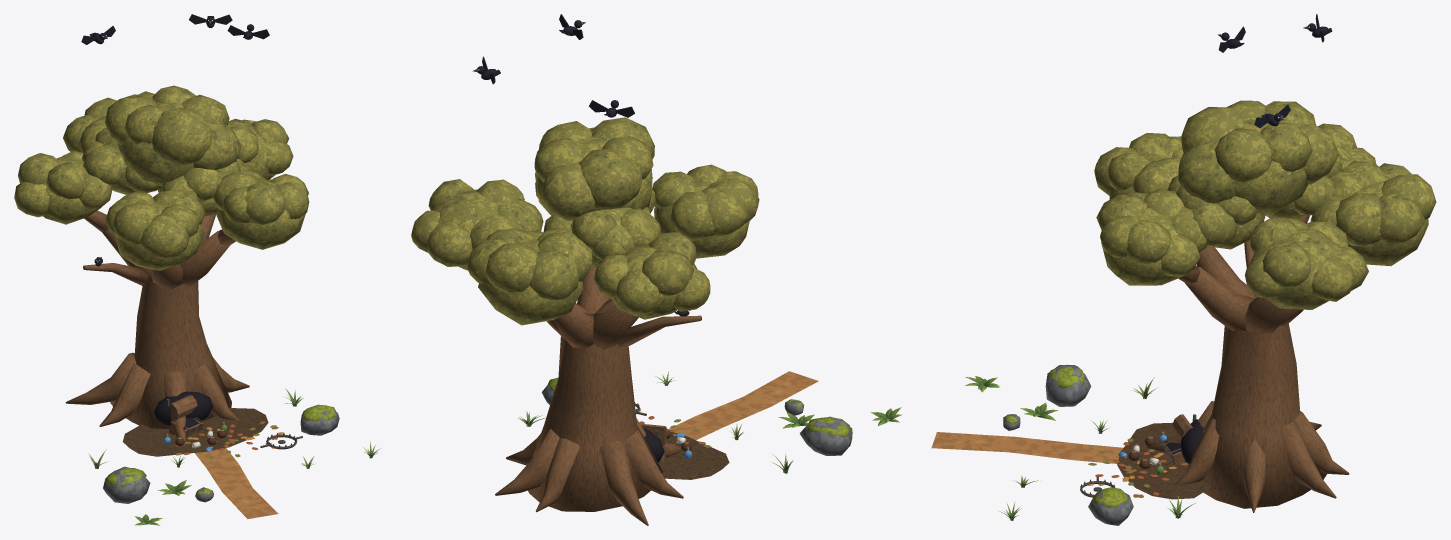
The model's file is ev09_cache.glb.
The picture shows the model from 3 angles, left to right: view 1: azimuth 30°, elevation 25°; view 2: azimuth 150°, elevation 25°; view 3: azimuth 270°, elevation 25°; orthographic projection. The views are drawn at different scales.
Visible parts, largest first — view 1: ev09_cache_tree_crown, ev09_cache_tree_trunk, ev09_cache_ground_details, ev09_cache_cache, ev09_cache_crows, ev09_cache_plants; view 2: ev09_cache_tree_crown, ev09_cache_tree_trunk, ev09_cache_ground_details, ev09_cache_crows, ev09_cache_plants, ev09_cache_cache; view 3: ev09_cache_tree_crown, ev09_cache_tree_trunk, ev09_cache_ground_details, ev09_cache_cache, ev09_cache_plants, ev09_cache_crows.
Part boxes in pixels (box(x1,y1,x2,y2)): ev09_cache_tree_crown: box(14, 85, 309, 270); ev09_cache_tree_trunk: box(65, 210, 249, 445); ev09_cache_ground_details: box(103, 404, 339, 519); ev09_cache_cache: box(164, 395, 302, 451); ev09_cache_crows: box(81, 14, 269, 266); ev09_cache_plants: box(88, 388, 380, 525); ev09_cache_tree_crown: box(411, 117, 759, 325); ev09_cache_tree_trunk: box(495, 266, 701, 525); ev09_cache_ground_details: box(541, 371, 852, 479); ev09_cache_crows: box(472, 14, 690, 316); ev09_cache_plants: box(518, 371, 902, 473); ev09_cache_cache: box(634, 402, 691, 462); ev09_cache_tree_crown: box(1094, 100, 1436, 309); ev09_cache_tree_trunk: box(1146, 215, 1349, 512); ev09_cache_ground_details: box(931, 364, 1211, 525); ev09_cache_cache: box(1080, 414, 1196, 497); ev09_cache_plants: box(965, 376, 1195, 520); ev09_cache_crows: box(1218, 14, 1332, 127).
Size of what is drawn, in the model's own units: 6.79 by 9.14 by 9.11.
Materials: 22 (22 with a texture image).
